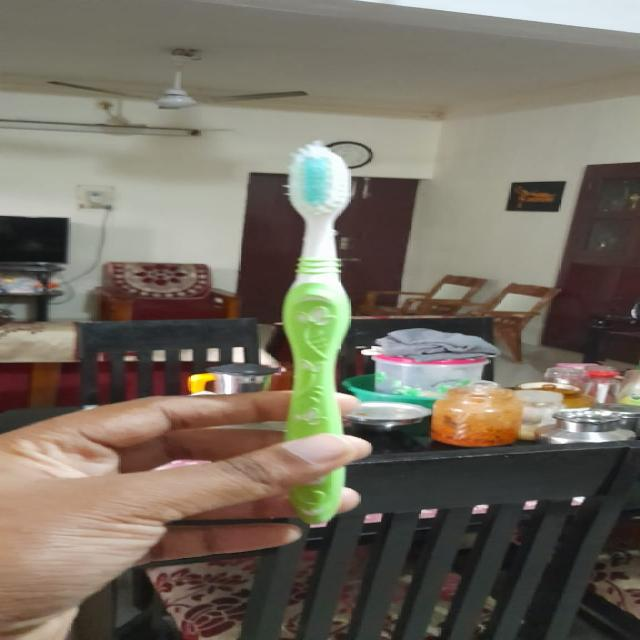Tooth_Brush - Non Recyclable: (237, 119, 395, 546)
